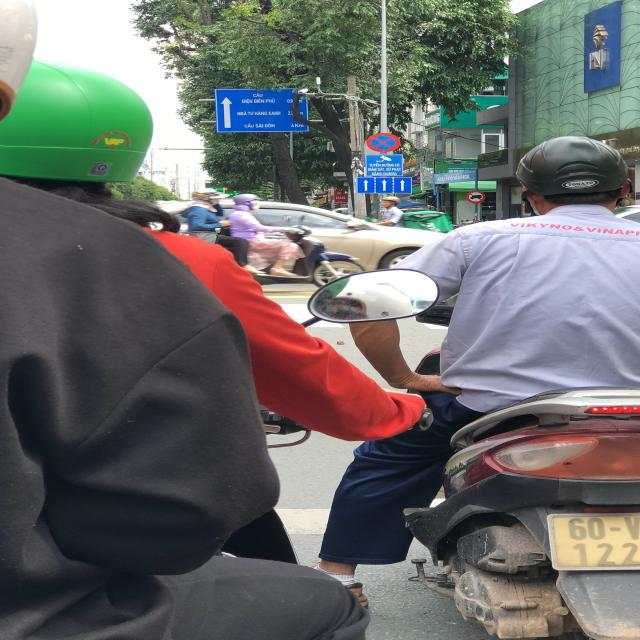Bien bao cam dung xe va do xe: (367, 131, 402, 153)
Bien bao cam xe oto tai: (464, 188, 488, 204)
